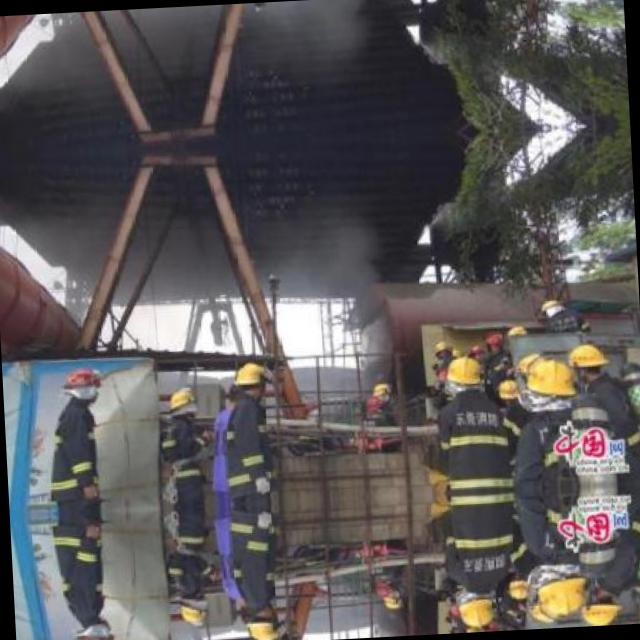helmet: (531, 568, 587, 620), (520, 355, 576, 406), (564, 340, 608, 382), (228, 358, 270, 401), (441, 354, 482, 396), (454, 587, 494, 629), (60, 366, 106, 402), (576, 588, 621, 624), (241, 605, 283, 640), (160, 386, 199, 423), (171, 590, 210, 627), (72, 622, 119, 640), (494, 375, 517, 409), (504, 570, 527, 604), (481, 326, 504, 352), (428, 337, 454, 358)
